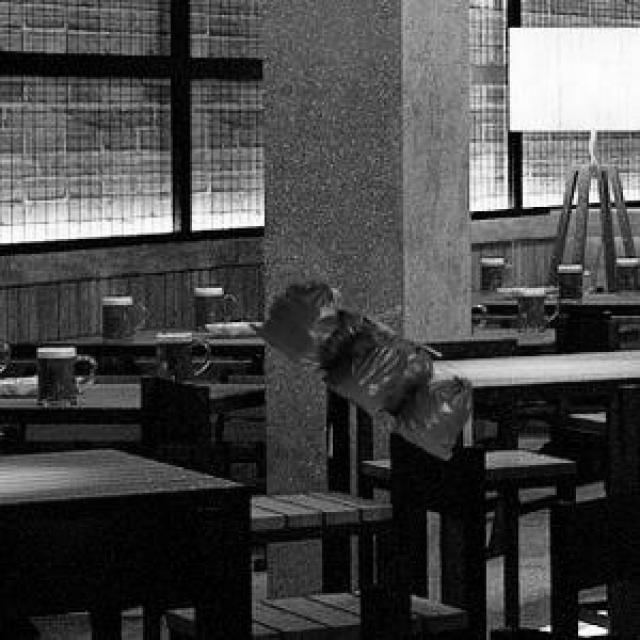miscellaneous trash: (245, 277, 467, 454)
